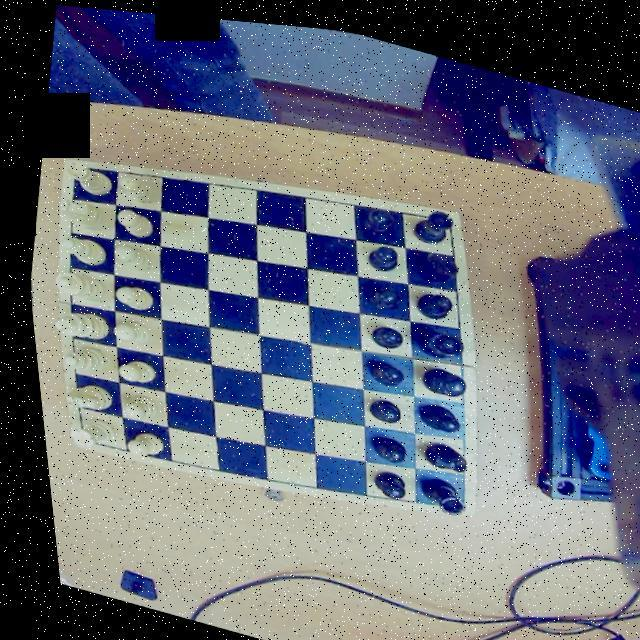chess-table-corners: (434, 480, 466, 511), (431, 200, 462, 230), (58, 154, 92, 179), (60, 422, 88, 448)
